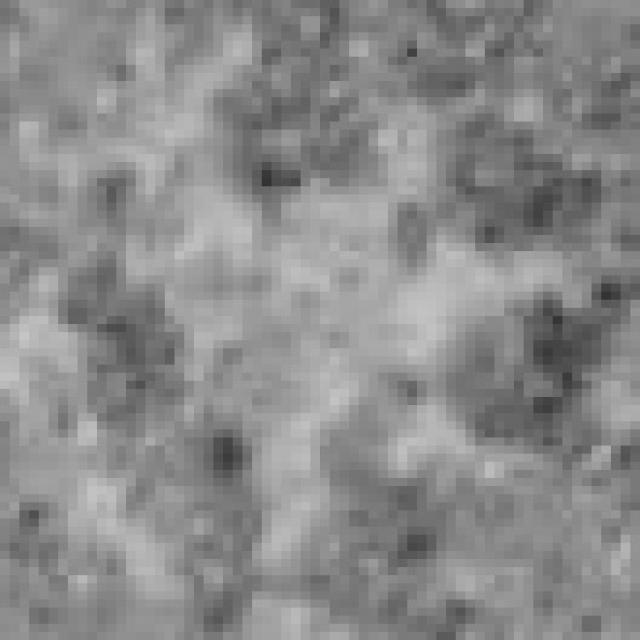inner: (164, 206, 458, 464)
lobe: (264, 451, 501, 633), (90, 411, 270, 628), (48, 168, 191, 437), (209, 32, 389, 217), (430, 288, 618, 452), (425, 105, 604, 262)
outer: (9, 9, 639, 640)
